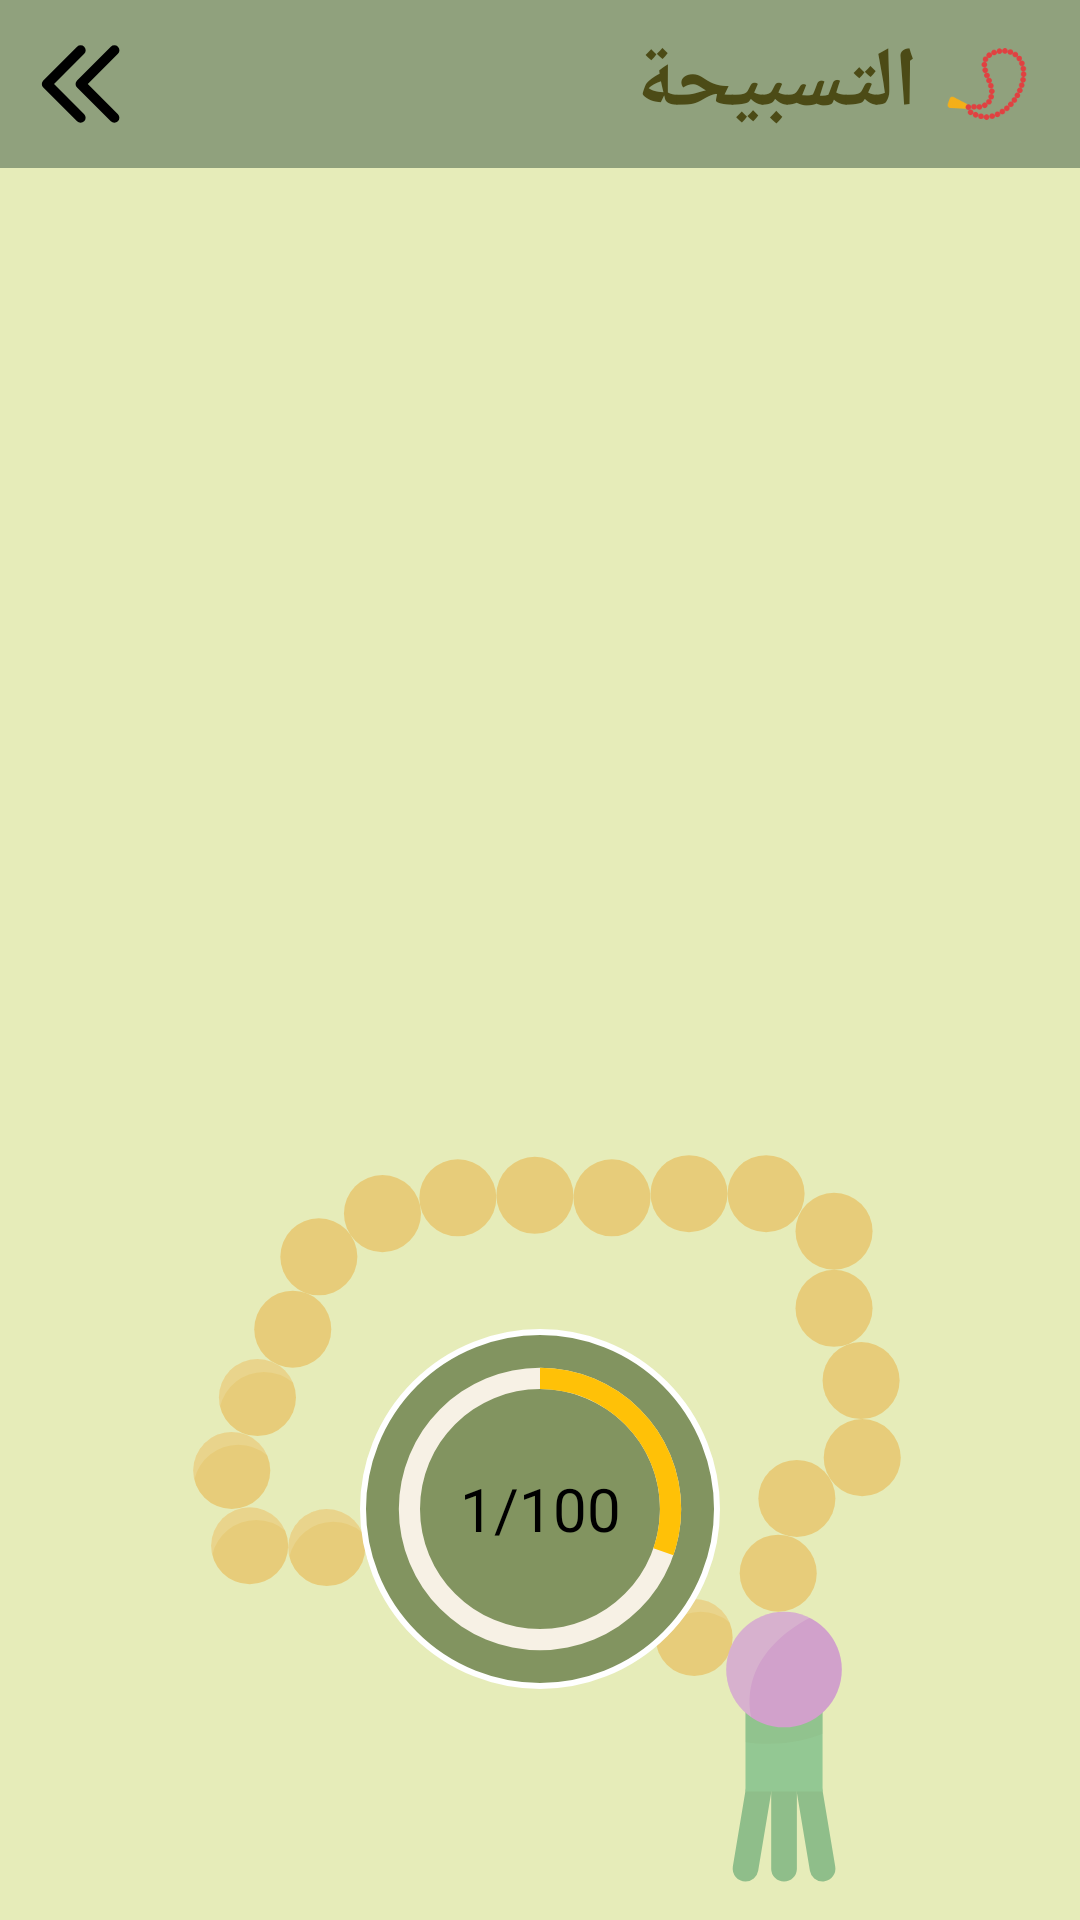

Point at icon controls on the screen. Image size 1080w x 1920h, points as [x,y].
back: [81,84]
tasbih: [987,84]
